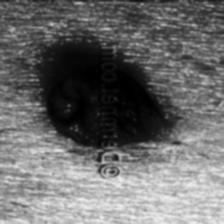Potentially Malignant Skin Tumors: (46, 74, 156, 144)
